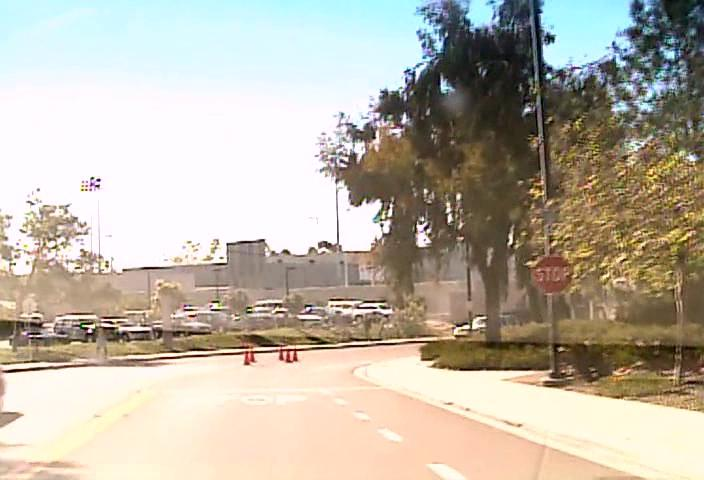stop: (533, 254, 573, 294)
